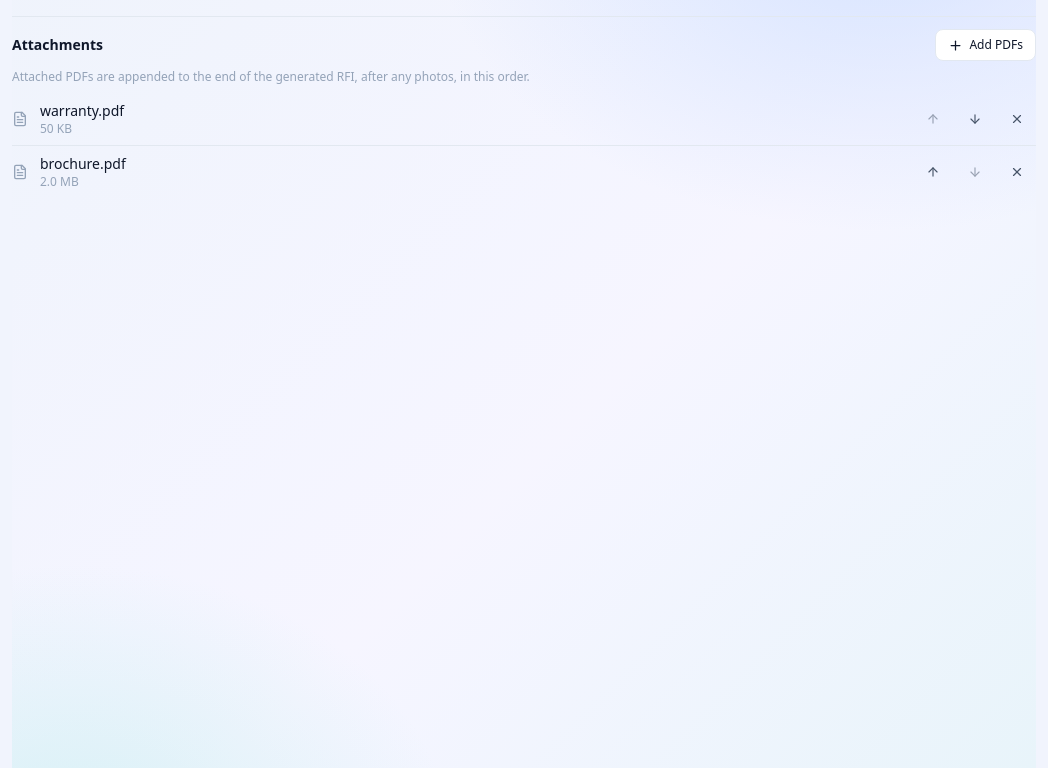
Test: PdfAttachmentsCard › a failed remove toasts and leaves the list as it was
This screenshot has width=1048, height=768.
Click the button named "Remove attachment" in the row of "warranty.pdf" at [1017, 119], box [998,103,1036,135]
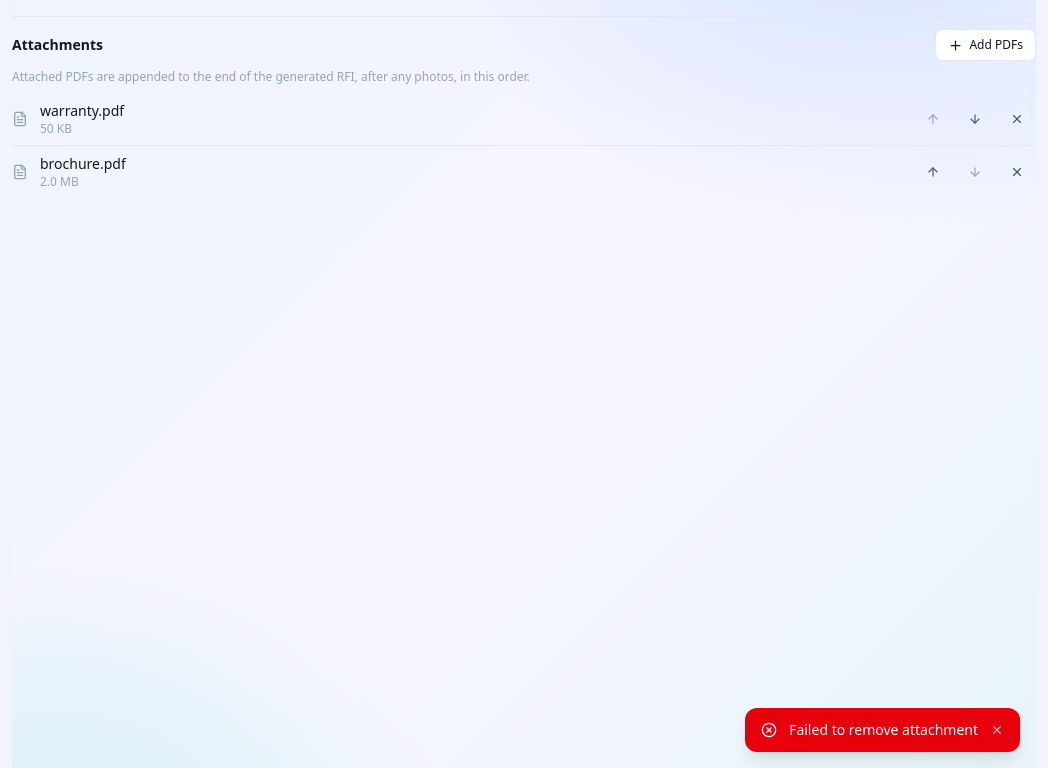
Check: the text "Failed to remove attachment" is shown, box [789,720,978,740]
